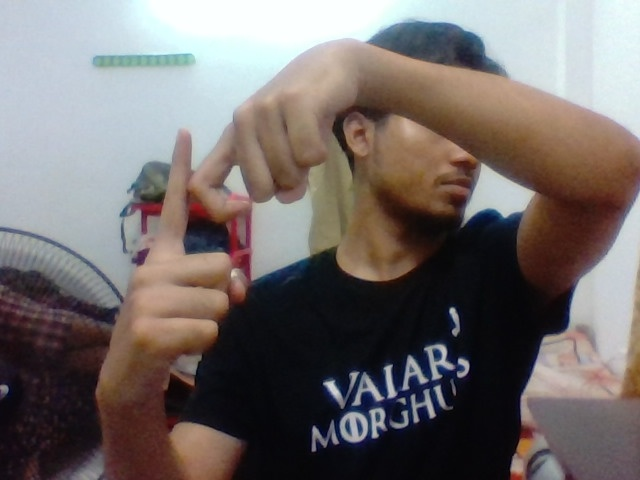K: (105, 116, 289, 351)
